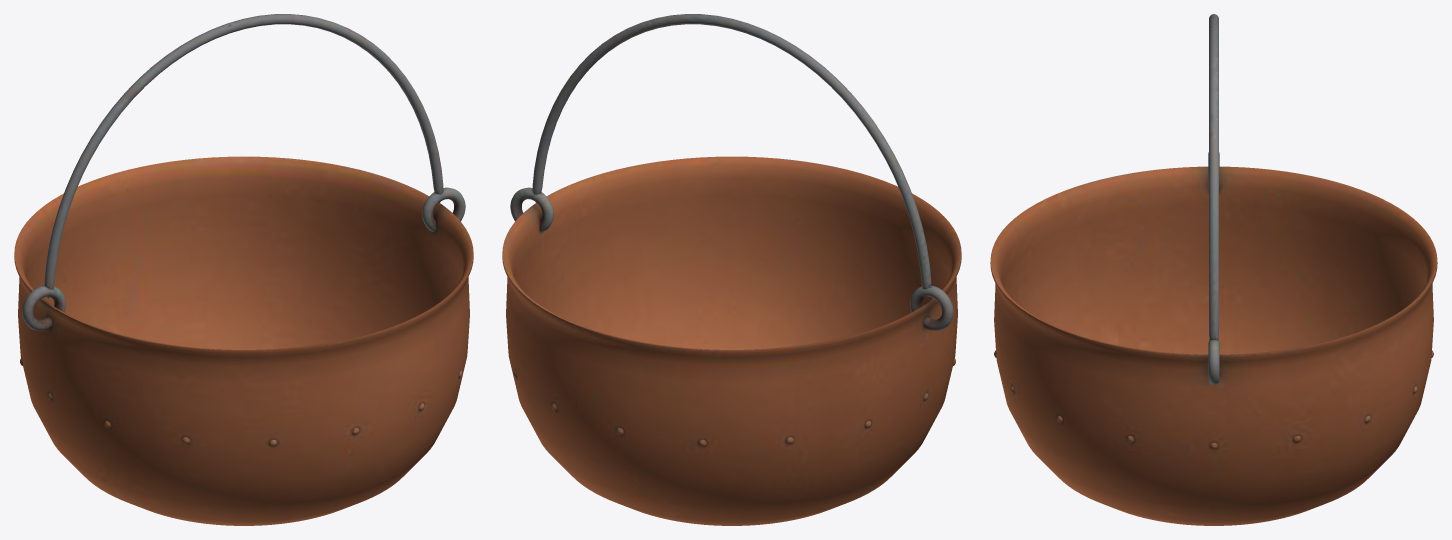
The model's file is copper_cauldron.glb.
3 renders of one model, left to right at view 1: azimuth 30°, elevation 25°; view 2: azimuth 150°, elevation 25°; view 3: azimuth 270°, elevation 25°, orthographic. The views are drawn at different scales.
Parts seen in each view (by area): view 1: copper_cauldron; view 2: copper_cauldron; view 3: copper_cauldron.
Boxes of the visible parts, x1=… form: copper_cauldron: x1=14, y1=14, x2=473, y2=525; copper_cauldron: x1=502, y1=14, x2=961, y2=525; copper_cauldron: x1=990, y1=14, x2=1437, y2=525.
Bounding box in the file's own units: 0.221 × 0.219 × 0.1991.
Materials: 1 (1 with a texture image).
